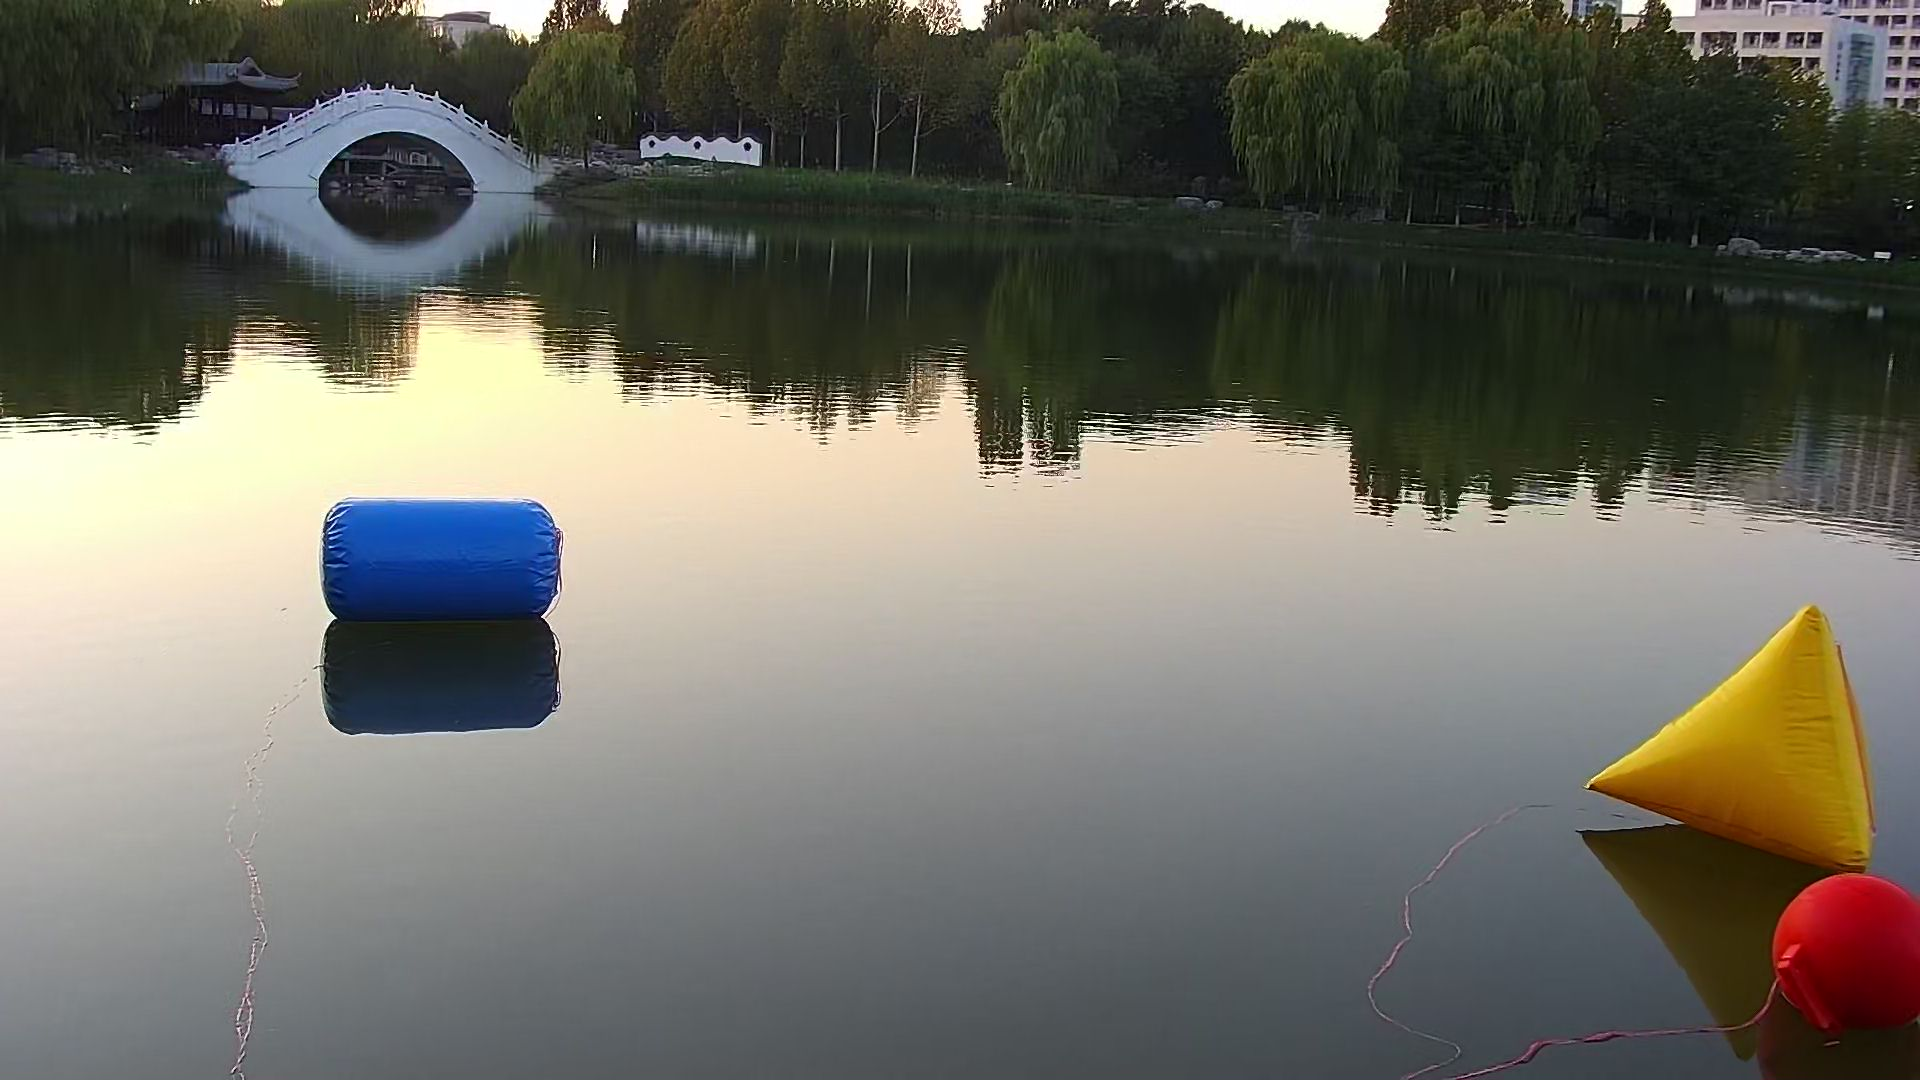ball: (1756, 876, 1920, 1051)
bridge: (218, 79, 550, 196)
rubbish: (1585, 597, 1890, 876), (315, 485, 562, 629)
